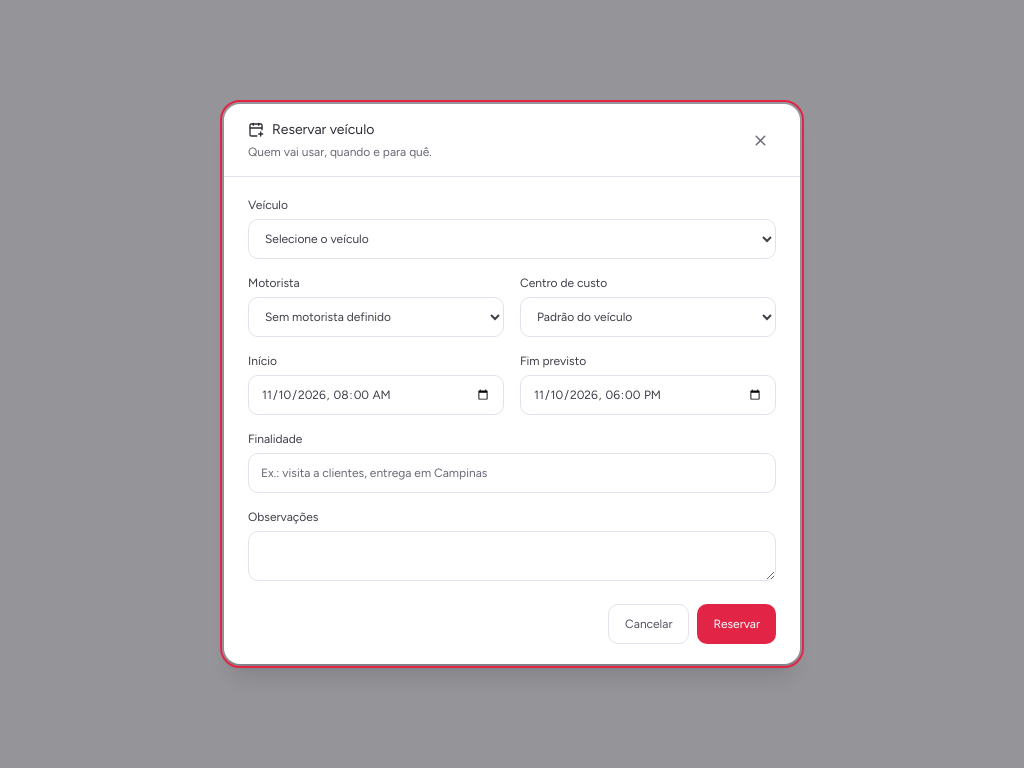
Test: UsoFormModal › sugere o centro de custo padrão do veículo escolhido
This screenshot has width=1024, height=768.
Step 1. Select "AAA1B25 · Fiat Strada" in the dropdown labelled "Veículo" → coordinates (512, 239), box [248, 219, 776, 259]
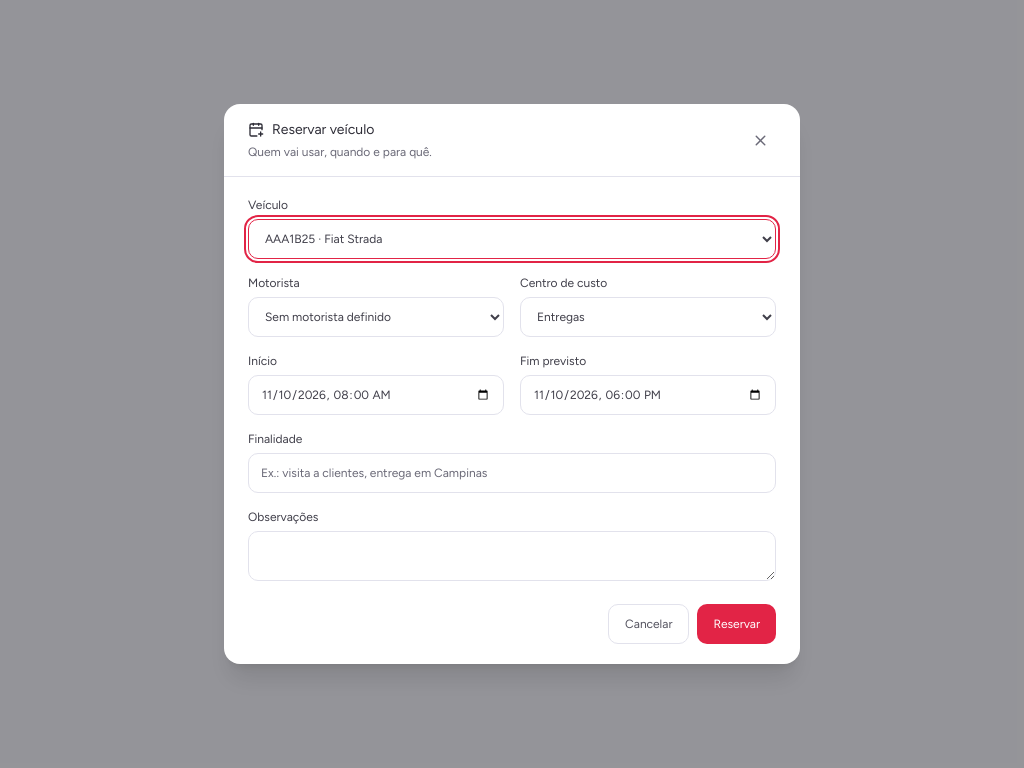
Expected: the field labelled "Início" holds "2026-11-10T08:00", [248, 375, 504, 415]
Result: the dropdown labelled "Centro de custo" shows "Entregas" at [520, 297, 776, 337]
